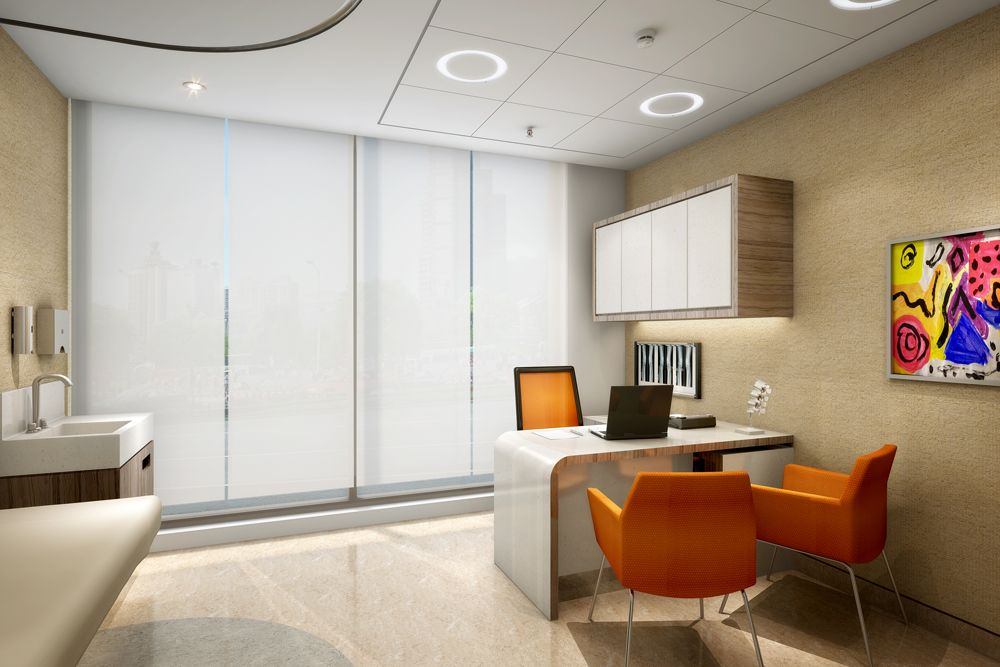cabinet: (589, 171, 790, 320)
chair: (585, 457, 771, 667), (753, 444, 911, 667), (509, 363, 588, 426)
computer: (605, 383, 676, 441)
dispenser: (35, 305, 71, 356), (11, 306, 36, 352)
faucet: (30, 370, 70, 429)
sink: (1, 410, 150, 472)
table: (488, 408, 795, 618)
